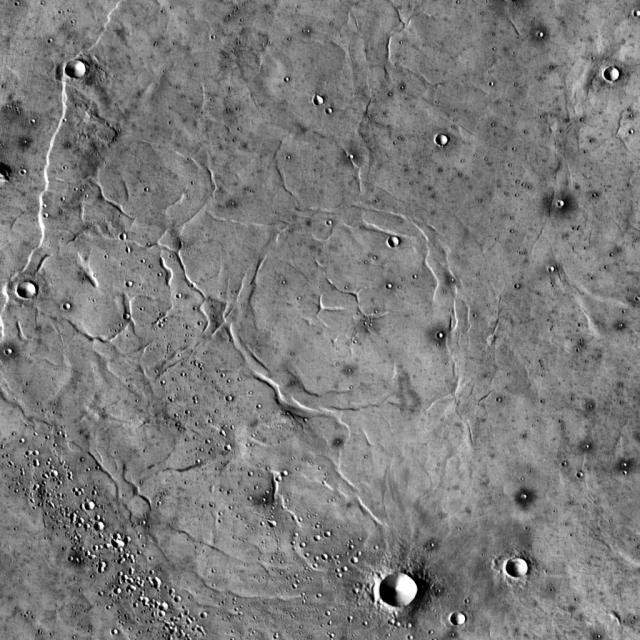crater: (237, 202, 471, 410), (386, 570, 424, 604), (513, 558, 535, 578), (70, 61, 88, 77), (26, 282, 42, 297), (610, 67, 625, 81), (457, 610, 472, 624), (116, 536, 128, 547), (394, 236, 405, 246), (89, 500, 100, 510), (164, 600, 174, 610), (441, 135, 452, 144), (99, 518, 110, 527), (319, 96, 329, 105), (356, 554, 364, 562), (278, 460, 286, 468), (23, 440, 31, 448), (157, 575, 165, 583), (68, 300, 76, 308), (274, 519, 282, 526), (118, 531, 126, 538), (322, 98, 330, 105), (202, 624, 209, 631), (56, 468, 63, 475), (167, 619, 175, 625), (95, 556, 103, 562), (198, 603, 206, 609), (179, 594, 187, 600), (119, 565, 127, 571), (130, 278, 138, 284), (122, 238, 130, 244), (327, 552, 334, 558), (92, 506, 99, 512), (96, 508, 103, 514), (129, 534, 136, 540), (104, 560, 111, 566), (127, 576, 134, 582), (126, 569, 132, 575)
